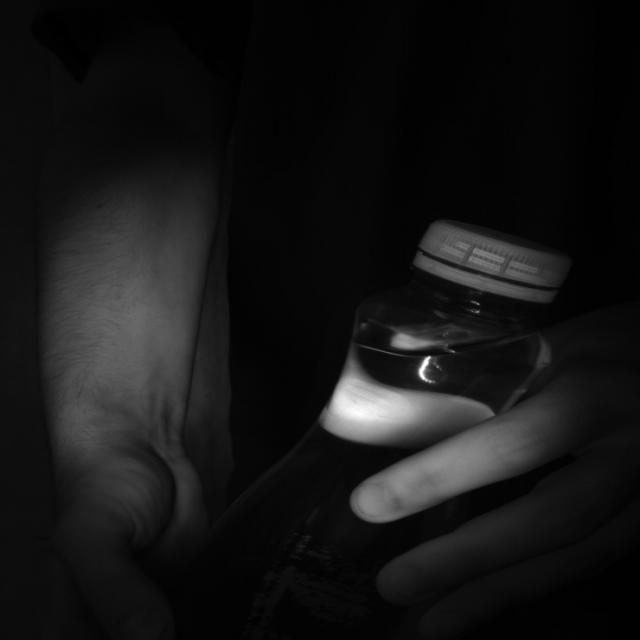Not Good: (411, 221, 572, 306)
